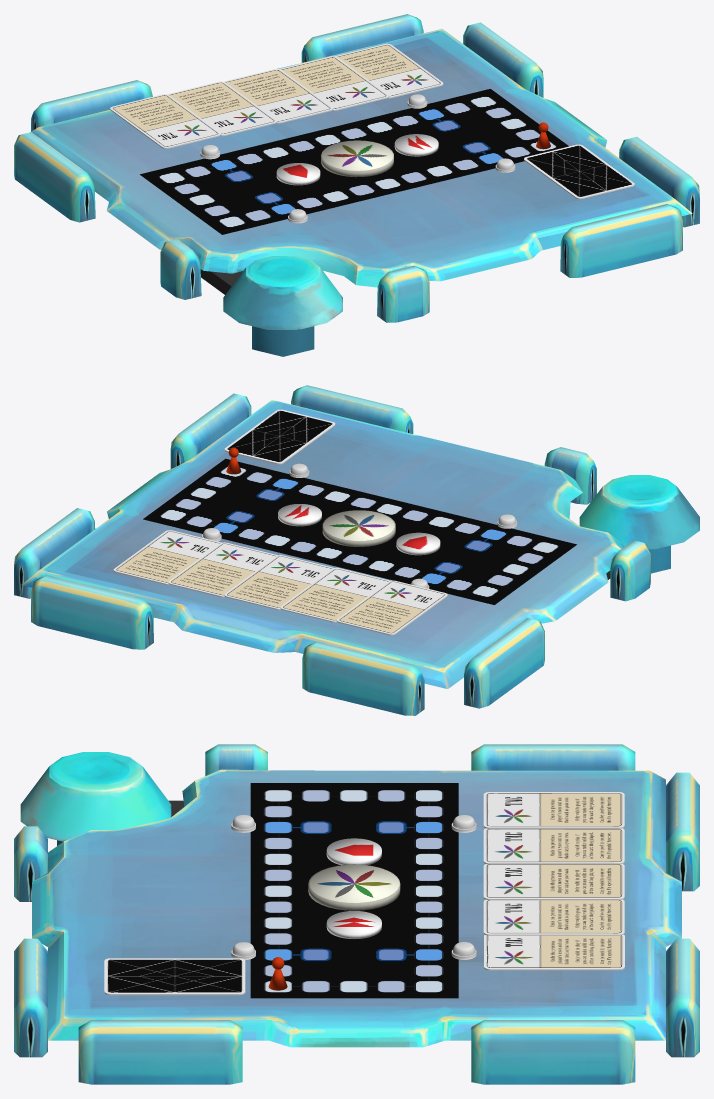
The model's file is Module.fbx.
The picture shows the model from 3 angles, top to bottom: view 1: azimuth 30°, elevation 25°; view 2: azimuth 150°, elevation 25°; view 3: azimuth 270°, elevation 25°; orthographic projection. The views are drawn at different scales.
Parts seen in each view (by area): view 1: ModelComponent, SmallBoard, Card6Back, Card5Front, Card4Front, Card2Front, Card3Front, Card1Front, TACButton, ChoiceButton1, ChoiceButton2; view 2: ModelComponent, SmallBoard, Card6Back, Card5Front, Card4Front, Card2Front, Card3Front, Card1Front, TACButton, ChoiceButton2, ChoiceButton1; view 3: ModelComponent, SmallBoard, Card6Back, Card5Front, Card4Front, Card2Front, Card3Front, Card1Front, TACButton, ChoiceButton1, ChoiceButton2.
Part boxes in pixels (x1,y1,x2,y2): ModelComponent: [14, 14, 699, 356]; SmallBoard: [140, 89, 568, 234]; Card6Back: [524, 144, 634, 199]; Card5Front: [110, 94, 220, 147]; Card4Front: [167, 81, 276, 135]; Card2Front: [280, 56, 388, 109]; Card3Front: [224, 69, 332, 122]; Card1Front: [335, 43, 443, 97]; TACButton: [321, 140, 393, 177]; ChoiceButton1: [394, 134, 438, 156]; ChoiceButton2: [276, 163, 320, 185]; ModelComponent: [14, 385, 699, 715]; SmallBoard: [143, 458, 576, 604]; Card6Back: [224, 409, 335, 464]; Card5Front: [337, 580, 447, 634]; Card4Front: [280, 567, 389, 621]; Card2Front: [168, 542, 277, 596]; Card3Front: [224, 555, 333, 608]; Card1Front: [113, 530, 221, 583]; TACButton: [322, 510, 395, 546]; ChoiceButton2: [396, 532, 440, 555]; ChoiceButton1: [278, 504, 321, 526]; ModelComponent: [14, 744, 699, 1084]; SmallBoard: [250, 783, 458, 998]; Card6Back: [104, 958, 245, 995]; Card5Front: [483, 792, 624, 827]; Card4Front: [483, 828, 624, 863]; Card2Front: [483, 899, 624, 934]; Card3Front: [483, 864, 624, 898]; Card1Front: [484, 934, 624, 969]; TACButton: [308, 864, 400, 910]; ChoiceButton1: [326, 911, 381, 939]; ChoiceButton2: [326, 838, 381, 865].
Size of the model in its own units: 20 by 3.42 by 20.
